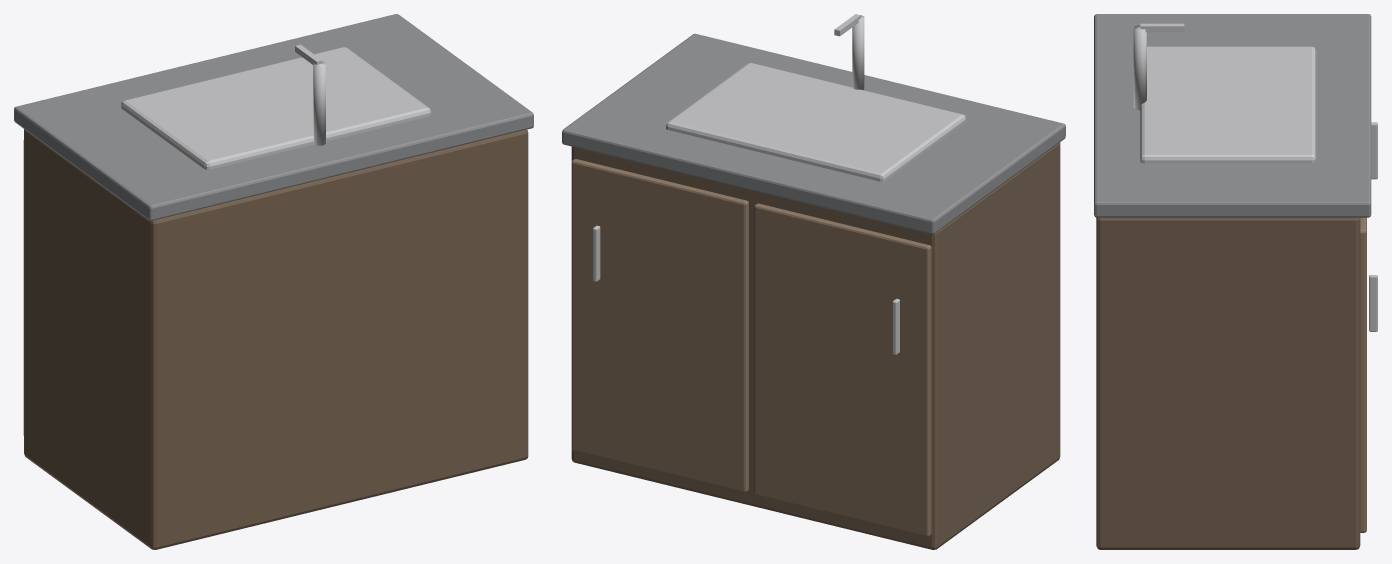
Rendered from cab_1_0_sink.glb.
3 views of the same model, side by side, from view 1: azimuth 30°, elevation 25°; view 2: azimuth 150°, elevation 25°; view 3: azimuth 270°, elevation 25° (orthographic). The views are drawn at different scales.
Visible parts, largest first — view 1: cab_1_0_sink; view 2: cab_1_0_sink; view 3: cab_1_0_sink.
Part boxes in pixels (x1,y1,x2,y2): cab_1_0_sink: (14, 14, 533, 549); cab_1_0_sink: (562, 14, 1065, 549); cab_1_0_sink: (1094, 14, 1377, 549).
Size of the model in its own units: 1.02 by 1.09 by 0.645.
